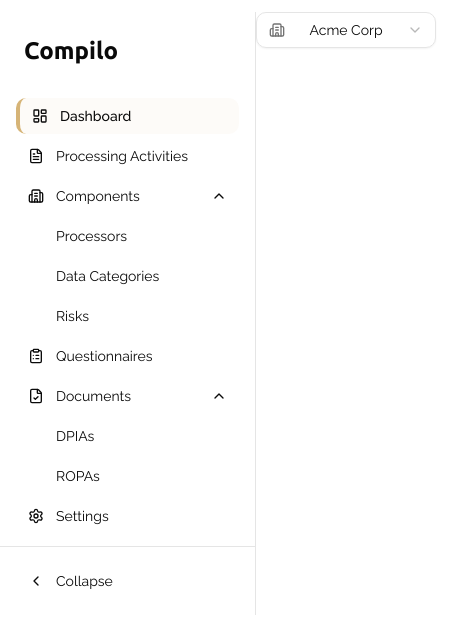
it: Component Integration Tests › Sidebar and Organization Switcher Workflow › should allow organization switcher interaction independent of sidebar collapse state
The width and height of the screenshot is (453, 632).
// First collapse the sidebar
Click the button with aria-label "collapse sidebar". click: (128, 581)
box: [16,563,239,599]
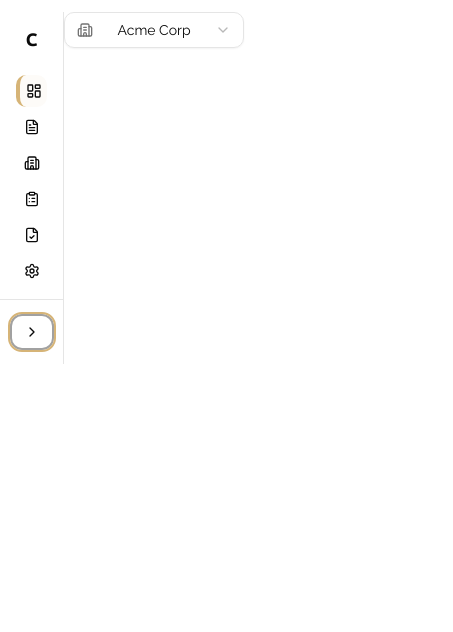
Expected: the element showing "C" has class "w-16", [0,12,64,364]
// Now interact with organization switcher
Click the dropdown. click: (154, 30)
box: [64,12,244,48]
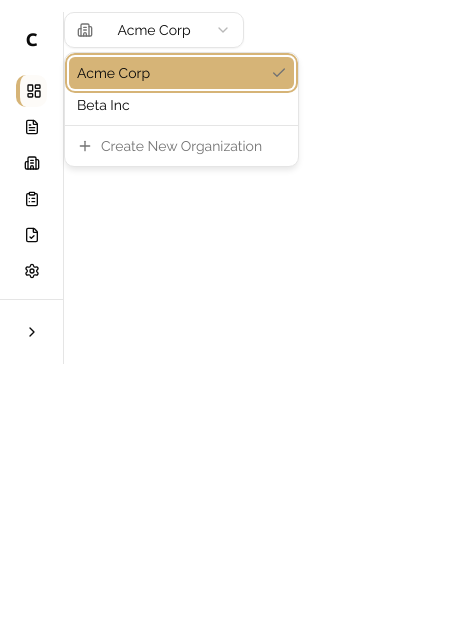
Expected: the list is shown, [64,52,299,167]
Expected: the 2nd text "Acme Corp" is shown, [77,63,150,83]
Expected: the text "Beta Inc" is shown, [77,95,130,115]
